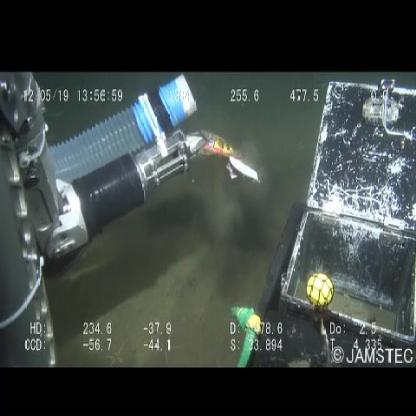Rov: (1, 73, 201, 364), (258, 74, 416, 366)
Rác: (198, 125, 262, 187)
